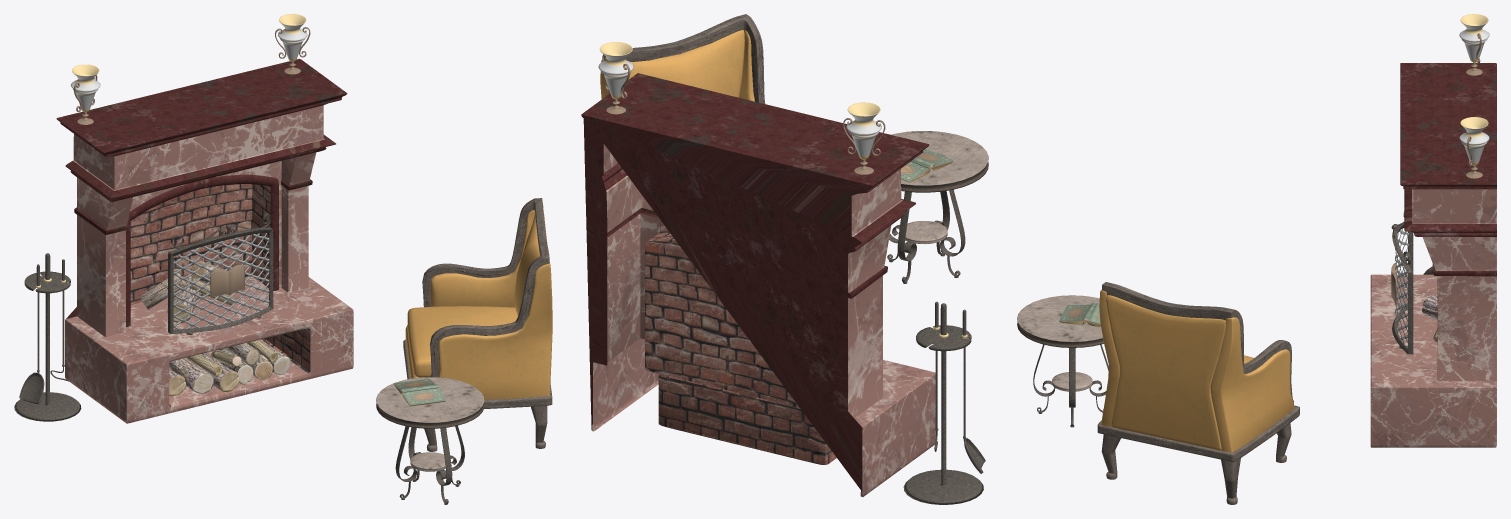
The model's file is Fireplace.fbx.
3 renders of one model, left to right at view 1: azimuth 30°, elevation 25°; view 2: azimuth 150°, elevation 25°; view 3: azimuth 270°, elevation 25°, orthographic. The views are drawn at different scales.
Visible parts, largest first — view 1: Fireplace, Chair, Grate, Wood, Table, ToolStand, VaseR, VaseL, Book, Tool2; view 2: Fireplace, Chair, Table, ToolStand, VaseL, VaseR, Book, Tool2; view 3: Fireplace, Chair, Table, Grate, VaseR, VaseL, Book.
Boxes of the visible parts, x1=… form: Fireplace: x1=56, y1=58, x2=353, y2=423; Chair: x1=403, y1=198, x2=552, y2=451; Grate: x1=168, y1=213, x2=273, y2=334; Wood: x1=139, y1=261, x2=290, y2=396; Table: x1=376, y1=377, x2=484, y2=504; ToolStand: x1=14, y1=253, x2=81, y2=421; VaseR: x1=275, y1=14, x2=310, y2=74; VaseL: x1=70, y1=64, x2=100, y2=124; Book: x1=393, y1=379, x2=445, y2=406; Tool2: x1=19, y1=264, x2=44, y2=404; Fireplace: x1=581, y1=73, x2=935, y2=496; Chair: x1=600, y1=14, x2=765, y2=103; Table: x1=887, y1=131, x2=988, y2=283; ToolStand: x1=903, y1=303, x2=983, y2=504; VaseL: x1=843, y1=102, x2=885, y2=174; VaseR: x1=598, y1=42, x2=633, y2=114; Book: x1=901, y1=149, x2=954, y2=182; Tool2: x1=961, y1=309, x2=985, y2=473; Fireplace: x1=1370, y1=63, x2=1496, y2=447; Chair: x1=1097, y1=282, x2=1299, y2=504; Table: x1=1017, y1=295, x2=1108, y2=427; Grate: x1=1391, y1=211, x2=1413, y2=354; VaseR: x1=1459, y1=117, x2=1489, y2=178; VaseL: x1=1459, y1=14, x2=1489, y2=75; Book: x1=1058, y1=303, x2=1100, y2=326.
Size of the model in its own units: 579 by 411 by 558.
Materials: 13 (10 with a texture image).
